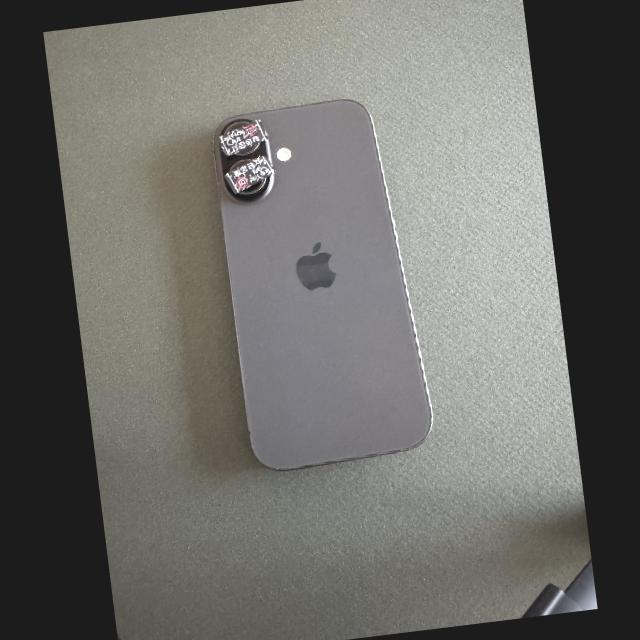lens: (240, 178, 266, 194), (224, 121, 250, 134)
phone: (214, 100, 432, 470)
sticker: (224, 155, 276, 193), (218, 119, 268, 155)
